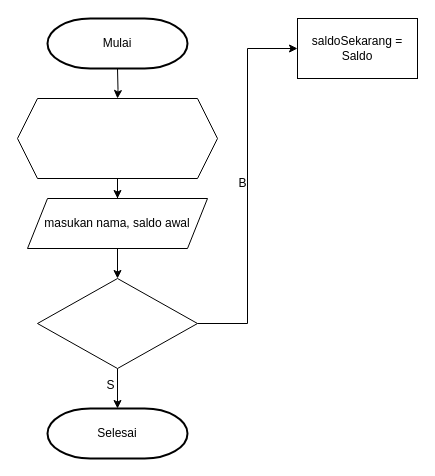
This 435x476 diagram has some shape labels left out. The shapes that lost their labels are listed below. From the top down, each one's centre as x and y in pixels, then its label:
At [117,138]: "delarasi nama, saldo, saldo awal, penambahan, penarikan, batasTransaksi, menu".
At [117,323]: "Apakah BatasTransaksi > 0".
